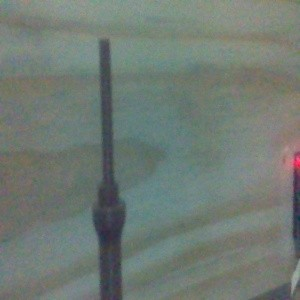obeng: (91, 37, 127, 300)
